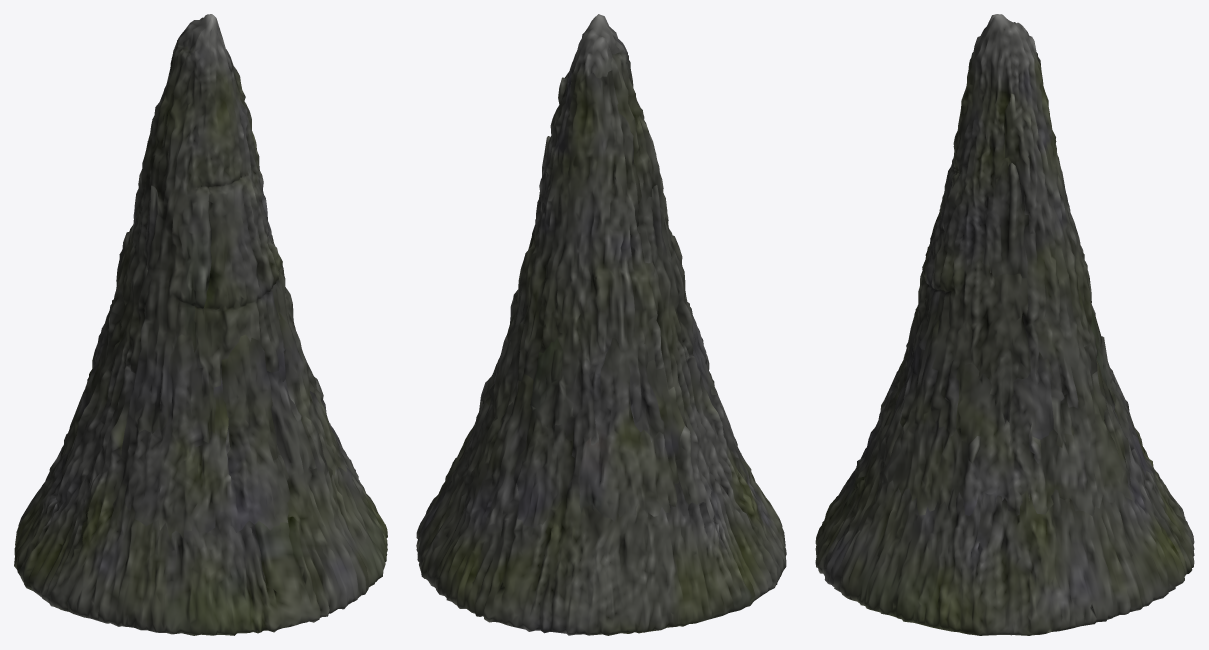
File: MZ4250 - Roper hiding 2025.glb
3 views of the same model, side by side, from view 1: azimuth 30°, elevation 25°; view 2: azimuth 150°, elevation 25°; view 3: azimuth 270°, elevation 25° (orthographic).
Parts seen in each view (by area): view 1: ORGANIC BASE SPHERE.001; view 2: ORGANIC BASE SPHERE.001; view 3: ORGANIC BASE SPHERE.001.
Boxes of the visible parts, bbox=[...] form: ORGANIC BASE SPHERE.001: bbox=[14, 14, 387, 635]; ORGANIC BASE SPHERE.001: bbox=[416, 14, 786, 635]; ORGANIC BASE SPHERE.001: bbox=[815, 14, 1194, 635].
Size of the model in its own units: 127 by 201 by 126.
1 material, 1 textured.
